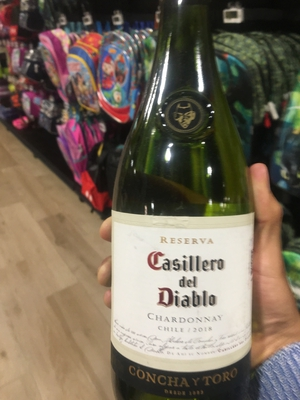casillero del diablo chardonnay: (111, 19, 264, 400)
